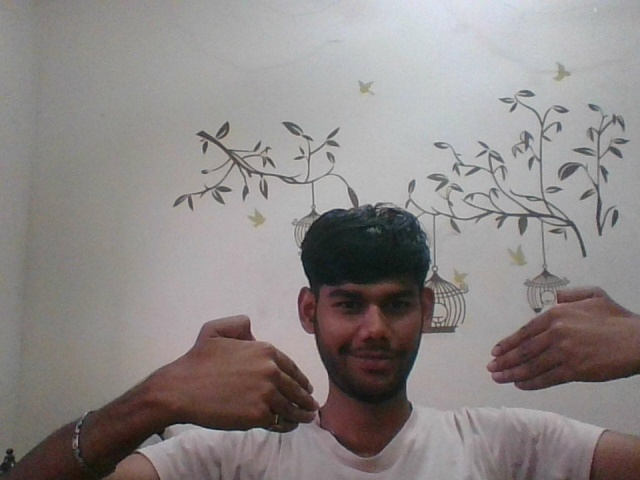I am Utkarsh: (135, 235, 624, 448)
